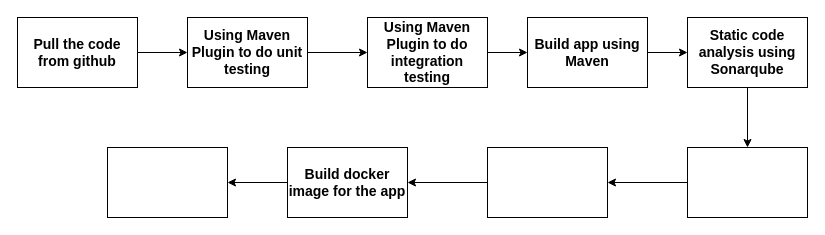
Some shapes in this 825 by 235 pixel diagram are drawn without their labels. Here are the shapes that lost their labels. From the top down, the centre of each, then its label:
the point at 167,182: Push image to docker hub
the point at 547,182: Upload war files on Nexus server
the point at 747,182: Check the status of quality gate using sonarqube
